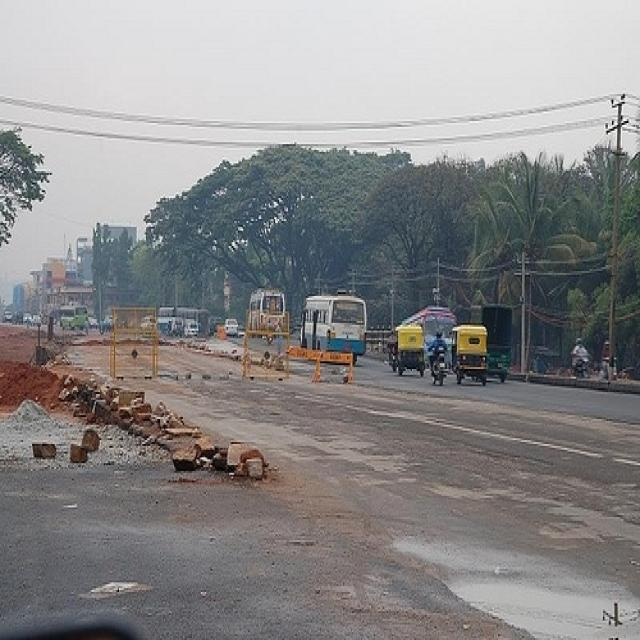pothole: (416, 548, 640, 638), (176, 385, 404, 465), (525, 488, 640, 540)
